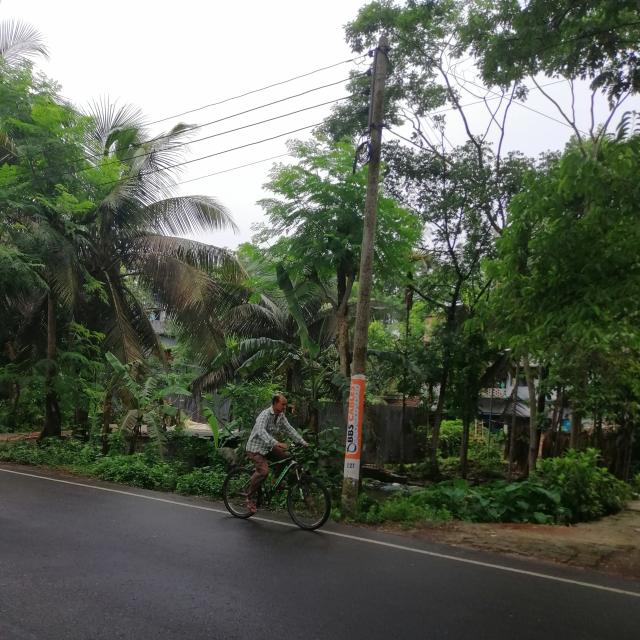Bicycle: (169, 420, 361, 582)
